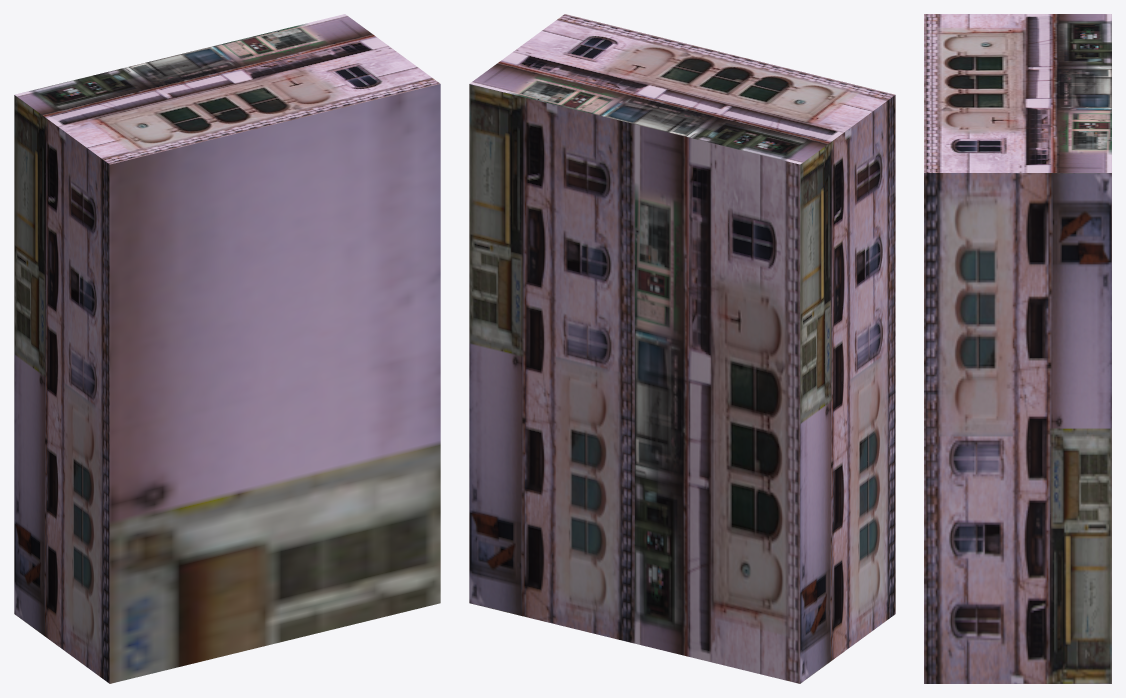
The model's file is urbanshops01a_wtf.obj.
3 views of the same model, side by side, from view 1: azimuth 30°, elevation 25°; view 2: azimuth 150°, elevation 25°; view 3: azimuth 270°, elevation 25° (orthographic).
Visible parts, largest first — view 1: group2; view 2: group2; view 3: group2.
Part boxes in pixels (x1,y1,x2,y2): group2: (14,14,440,683); group2: (469,14,895,683); group2: (924,14,1111,683).
Bounding box in the file's own units: 440 × 660 × 220.
